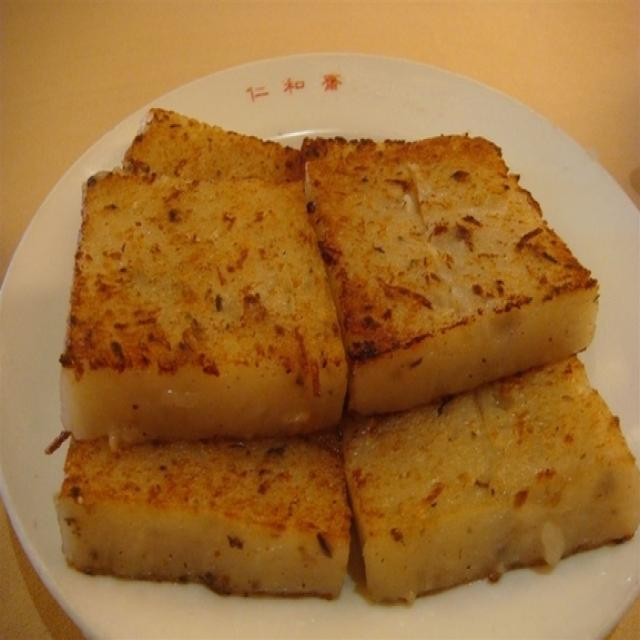蛋糕甜品: (40, 50, 633, 612)
